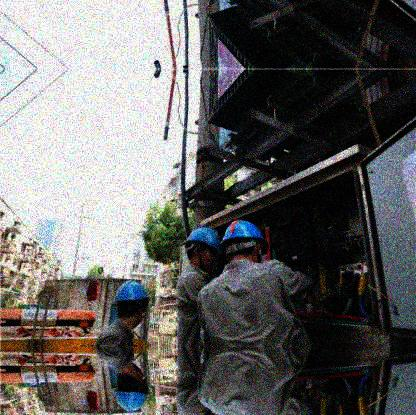helmet: (219, 218, 265, 261), (183, 227, 221, 271), (114, 280, 146, 327), (116, 362, 148, 409)
